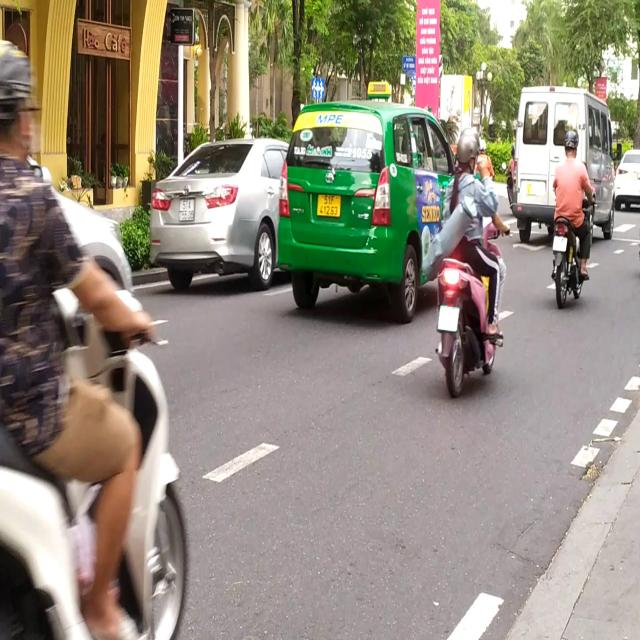bien_vang: (315, 190, 343, 225)
